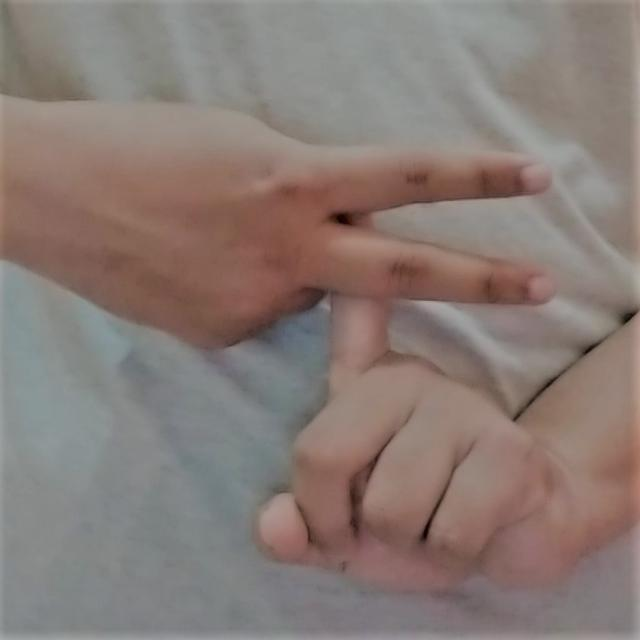F: (12, 80, 609, 605)
